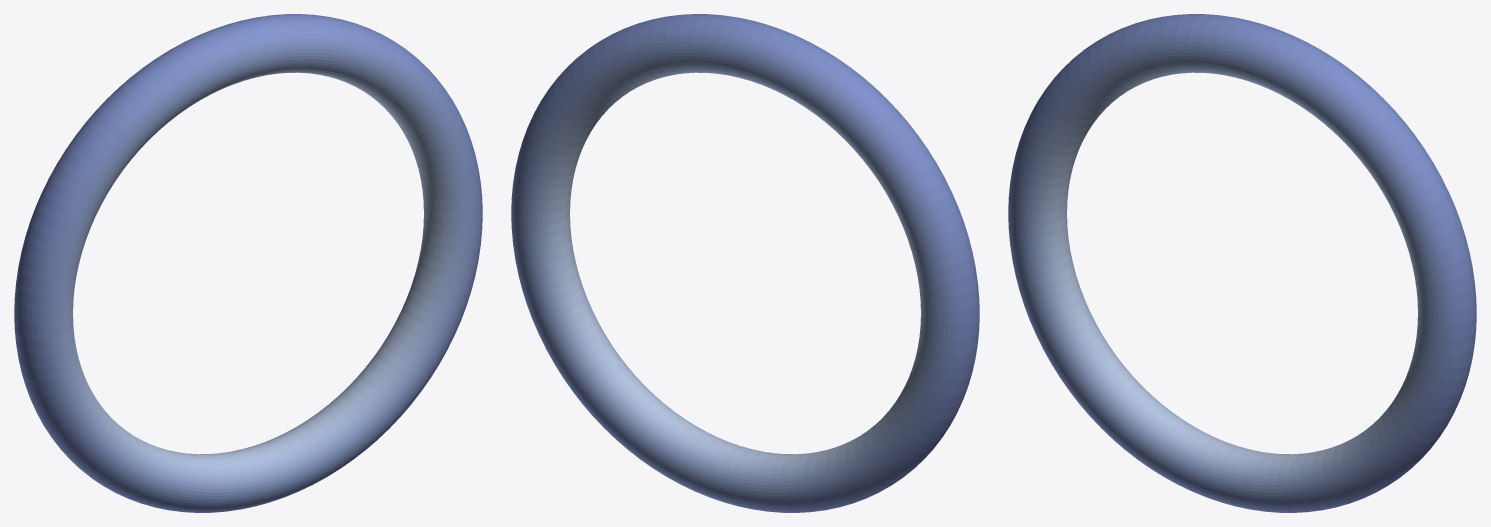
The picture shows the model from 3 angles, left to right: view 1: azimuth 30°, elevation 25°; view 2: azimuth 150°, elevation 25°; view 3: azimuth 330°, elevation 25°; orthographic projection.
Parts seen in each view (by area): view 1: world; view 2: world; view 3: world.
Boxes of the visible parts, bbox=[...] form: world: bbox=[14, 14, 482, 512]; world: bbox=[511, 14, 979, 512]; world: bbox=[1008, 14, 1476, 512].
Size of the model in its own units: 27.73 by 27.73 by 3.06.
